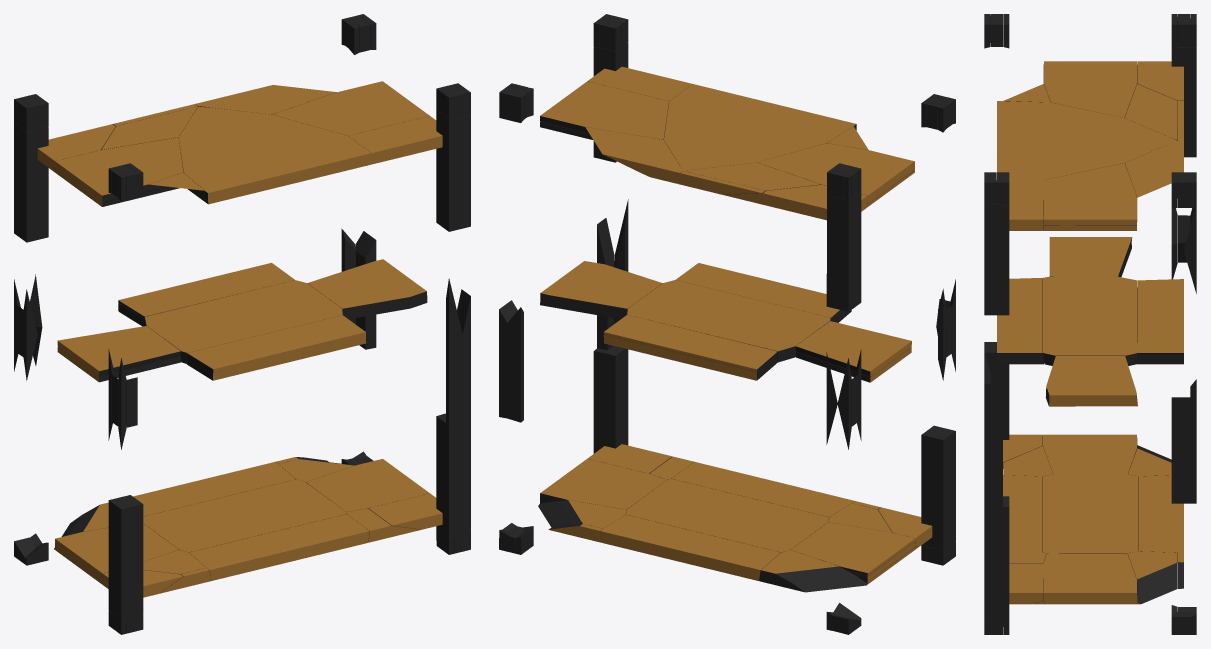
The model's file is storeroom_shelf_kaputt.glb.
3 renders of one model, left to right at view 1: azimuth 30°, elevation 25°; view 2: azimuth 150°, elevation 25°; view 3: azimuth 270°, elevation 25°, orthographic.
Parts seen in each view (by area): view 1: Cube_cell.063, Cube_cell.054, Cube_cell.048, Cube_cell.035, Cube_cell.038, Cube_cell.041, Cube_cell.007, Cube_cell.067, Cube_cell.020, Cube_cell.088, Cube_cell.097, Cube_cell.019 (+22 smaller); view 2: Cube_cell.063, Cube_cell.048, Cube_cell.054, Cube_cell.039, Cube_cell.041, Cube_cell.067, Cube_cell.007, Cube_cell.030, Cube_cell.020, Cube_cell.019, Cube_cell.062, Cube_cell.061 (+24 smaller); view 3: Cube_cell.063, Cube_cell.048, Cube_cell.054, Cube_cell.041, Cube_cell.062, Cube_cell.007, Cube_cell.067, Cube_cell.030, Cube_cell.061, Cube_cell.035, Cube_cell.039, Cube_cell.098 (+28 smaller).
Boxes of the visible parts, x1,y1,x2,y2 form: Cube_cell.063: (178, 106, 371, 204); Cube_cell.054: (143, 479, 346, 552); Cube_cell.048: (145, 280, 342, 363); Cube_cell.035: (186, 315, 366, 380); Cube_cell.038: (189, 514, 369, 580); Cube_cell.041: (272, 81, 429, 135); Cube_cell.007: (55, 137, 183, 203); Cube_cell.067: (307, 259, 427, 319); Cube_cell.020: (108, 495, 143, 620); Cube_cell.088: (436, 413, 470, 537); Cube_cell.097: (436, 111, 470, 231); Cube_cell.019: (14, 123, 48, 242); Cube_cell.063: (664, 84, 856, 170); Cube_cell.048: (627, 280, 830, 362); Cube_cell.054: (626, 479, 828, 552); Cube_cell.039: (600, 515, 780, 580); Cube_cell.041: (540, 81, 668, 139); Cube_cell.067: (540, 261, 662, 319); Cube_cell.007: (757, 143, 914, 204); Cube_cell.030: (603, 314, 777, 371); Cube_cell.020: (921, 425, 955, 549); Cube_cell.019: (826, 193, 861, 311); Cube_cell.062: (540, 458, 666, 509); Cube_cell.061: (791, 522, 915, 575); Cube_cell.063: (997, 101, 1176, 179); Cube_cell.048: (1043, 276, 1137, 365); Cube_cell.054: (1043, 474, 1137, 553); Cube_cell.041: (1043, 163, 1137, 225); Cube_cell.062: (1043, 553, 1137, 604); Cube_cell.007: (1043, 61, 1137, 117); Cube_cell.067: (1045, 356, 1137, 406); Cube_cell.030: (1137, 279, 1183, 355); Cube_cell.061: (1043, 434, 1136, 474); Cube_cell.035: (997, 278, 1044, 364); Cube_cell.039: (1138, 475, 1183, 562); Cube_cell.098: (1049, 237, 1132, 276).
Bounding box in the file's own units: 3.2 × 4 × 1.7.
